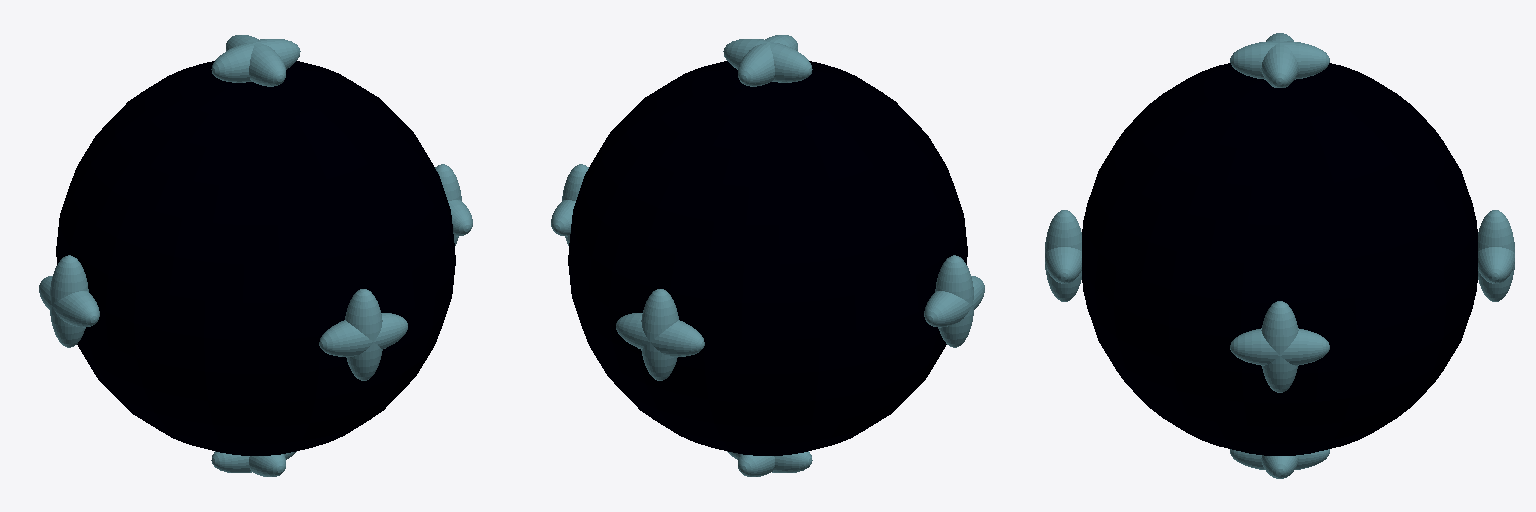
Rendered from sphereshiptri.obj.
3 renders of one model, left to right at view 1: azimuth 30°, elevation 25°; view 2: azimuth 150°, elevation 25°; view 3: azimuth 270°, elevation 25°, orthographic.
Parts seen in each view (by area): view 1: Cockpit_Sphere.Cockpit, JetXZ_Sphere.JetXZ, JetZY_Sphere.JetZY, JetXY_Spheres.JetXY, JetYX_Sphere.JetYX, JetYZ_Sphere.JetYZ; view 2: Cockpit_Sphere.Cockpit, JetZX_Sphere.JetZX, JetZY_Sphere.JetZY, JetXY_Spheres.JetXY, JetYX_Sphere.JetYX, JetYZ_Sphere.JetYZ; view 3: Cockpit_Sphere.Cockpit, JetYZ_Sphere.JetYZ, JetXY_Spheres.JetXY, JetZX_Sphere.JetZX, JetXZ_Sphere.JetXZ, JetYX_Sphere.JetYX.
Part boxes in pixels (left/top/right/bottom): Cockpit_Sphere.Cockpit: left=56, top=61, right=455, bottom=455; JetXZ_Sphere.JetXZ: left=319, top=289, right=407, bottom=380; JetZY_Sphere.JetZY: left=39, top=255, right=99, bottom=347; JetXY_Spheres.JetXY: left=211, top=35, right=300, bottom=86; JetYX_Sphere.JetYX: left=211, top=451, right=296, bottom=476; JetYZ_Sphere.JetYZ: left=435, top=164, right=472, bottom=245; Cockpit_Sphere.Cockpit: left=568, top=61, right=967, bottom=455; JetZX_Sphere.JetZX: left=616, top=289, right=704, bottom=380; JetZY_Sphere.JetZY: left=924, top=255, right=984, bottom=347; JetXY_Spheres.JetXY: left=723, top=35, right=812, bottom=86; JetYX_Sphere.JetYX: left=727, top=451, right=812, bottom=476; JetYZ_Sphere.JetYZ: left=551, top=164, right=588, bottom=245; Cockpit_Sphere.Cockpit: left=1082, top=63, right=1477, bottom=455; JetYZ_Sphere.JetYZ: left=1230, top=301, right=1329, bottom=392; JetXY_Spheres.JetXY: left=1230, top=33, right=1329, bottom=87; JetZX_Sphere.JetZX: left=1478, top=210, right=1514, bottom=301; JetXZ_Sphere.JetXZ: left=1045, top=210, right=1081, bottom=301; JetYX_Sphere.JetYX: left=1230, top=449, right=1329, bottom=478.
Size of the model in its own units: 2.35 by 2.35 by 2.35.